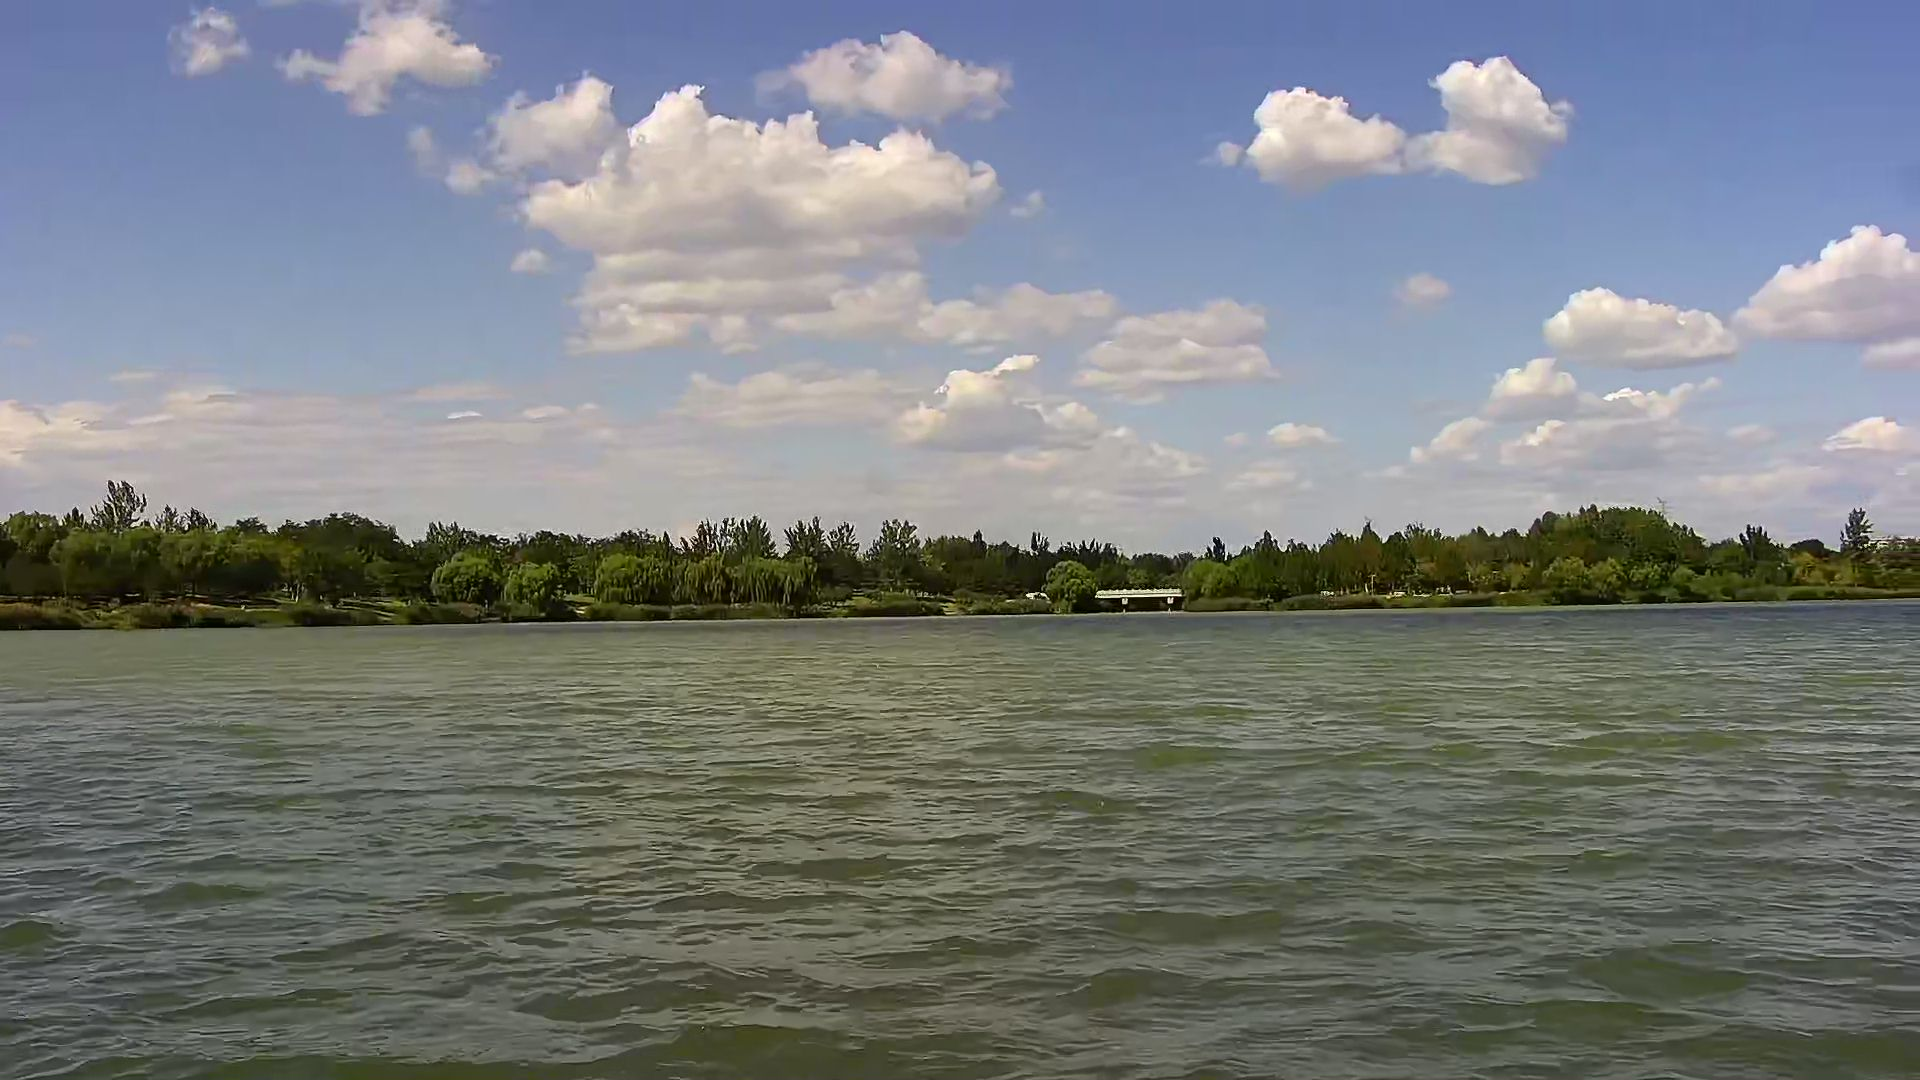bridge: (1092, 585, 1183, 617)
